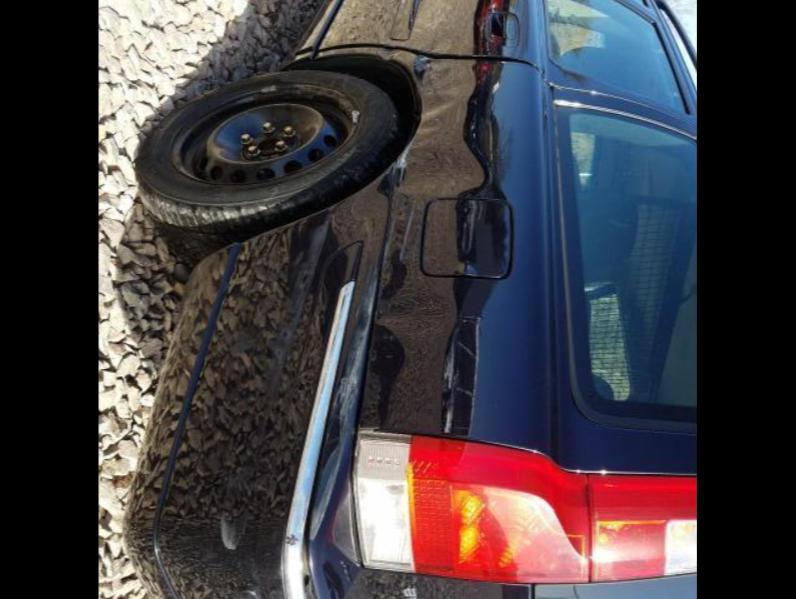Broken part: (312, 40, 540, 70)
Dent: (406, 60, 501, 196), (374, 286, 454, 336)
Scratch: (308, 264, 376, 540), (274, 220, 330, 398), (382, 136, 416, 264), (398, 206, 416, 262), (221, 506, 242, 550), (414, 54, 431, 80)
